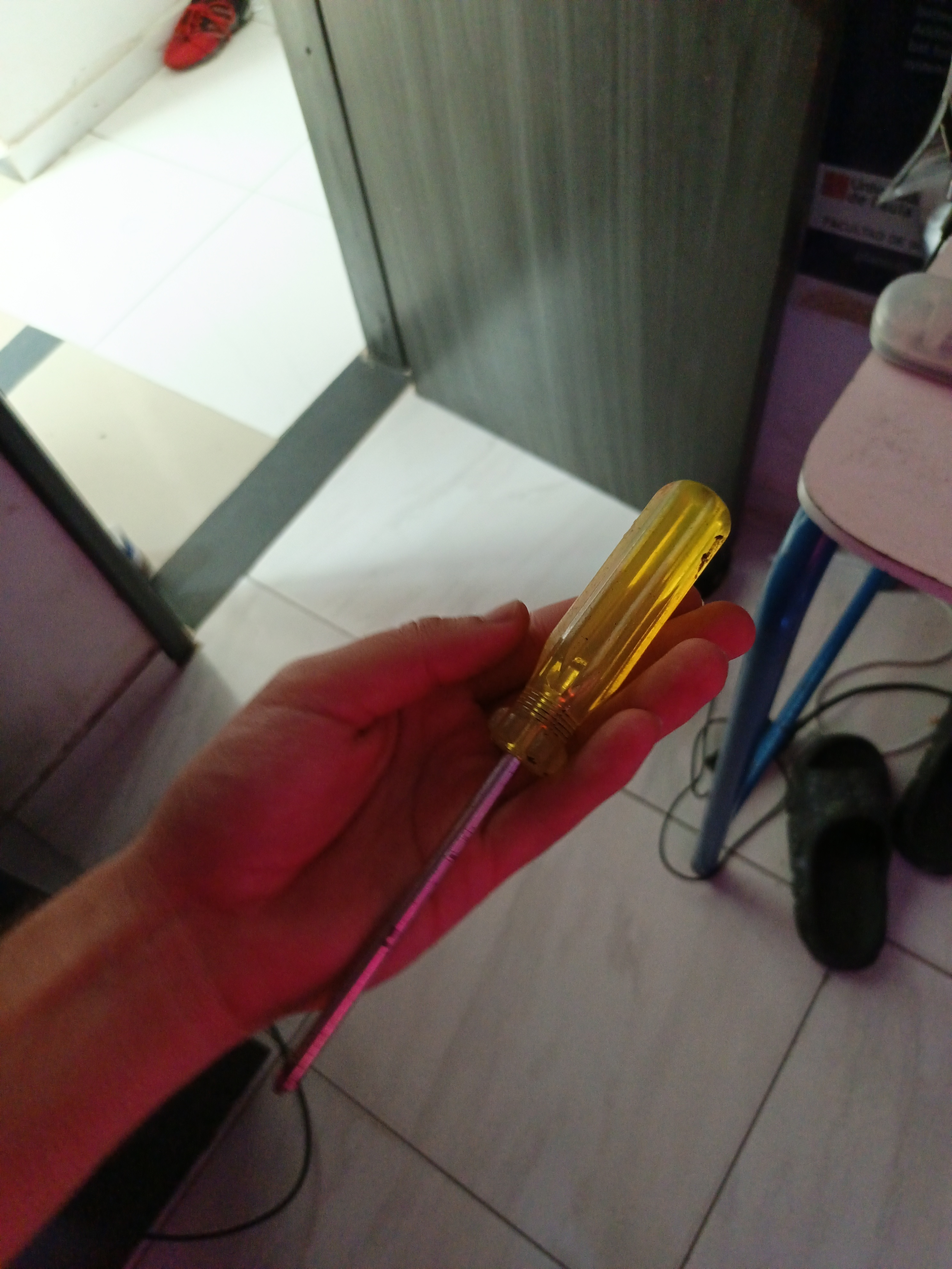Destornillador: (277, 480, 730, 1091)
